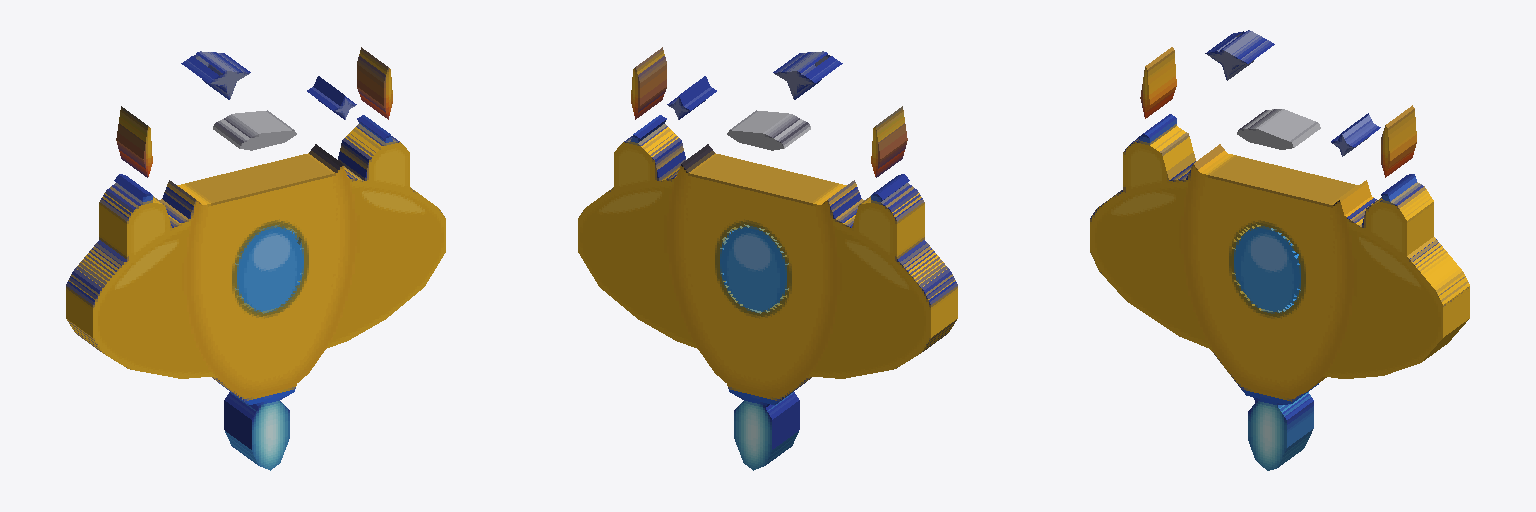
The picture shows the model from 3 angles: view 1: azimuth 30°, elevation 25°; view 2: azimuth 150°, elevation 25°; view 3: azimuth 330°, elevation 25°; orthographic projection.
Parts seen in each view (by area): view 1: Object.6, Object.5, Object.3, Object.2, Object.1, Object.4; view 2: Object.6, Object.5, Object.3, Object.2, Object.1, Object.4; view 3: Object.6, Object.5, Object.3, Object.2, Object.1, Object.4.
Boxes of the visible parts, box(x1,y1,x2,y2) form: Object.6: box(66, 115, 445, 470); Object.5: box(213, 110, 296, 150); Object.3: box(357, 47, 392, 119); Object.2: box(116, 106, 152, 177); Object.1: box(181, 51, 250, 99); Object.4: box(307, 76, 356, 119); Object.6: box(578, 115, 957, 470); Object.5: box(727, 110, 810, 150); Object.3: box(631, 47, 666, 119); Object.2: box(871, 106, 907, 177); Object.1: box(773, 51, 842, 99); Object.4: box(667, 76, 716, 119); Object.6: box(1090, 114, 1469, 470); Object.5: box(1237, 109, 1320, 149); Object.3: box(1381, 105, 1416, 177); Object.2: box(1140, 47, 1176, 118); Object.1: box(1205, 30, 1274, 80); Object.4: box(1331, 113, 1380, 156).
Size of the model in its own units: 37.34 by 41.4 by 4.95.
Materials: 1 (1 with a texture image).